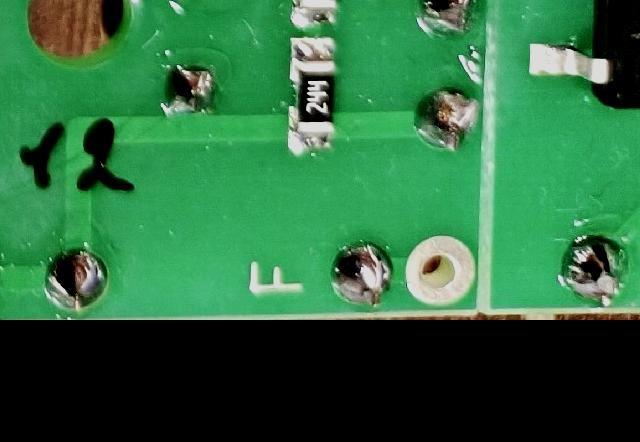chip-resistor: (285, 38, 339, 160)
ic: (521, 0, 640, 113)
